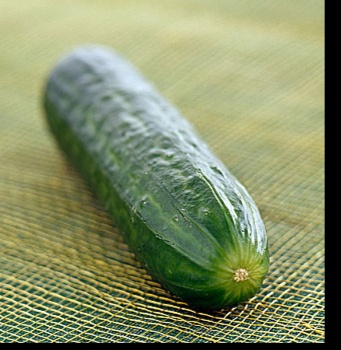cucumber: (41, 45, 268, 305)
